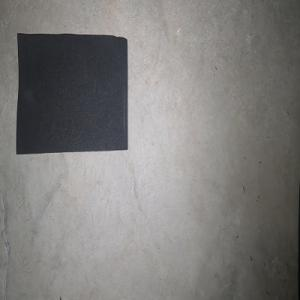PaintChip: (16, 33, 128, 154)
